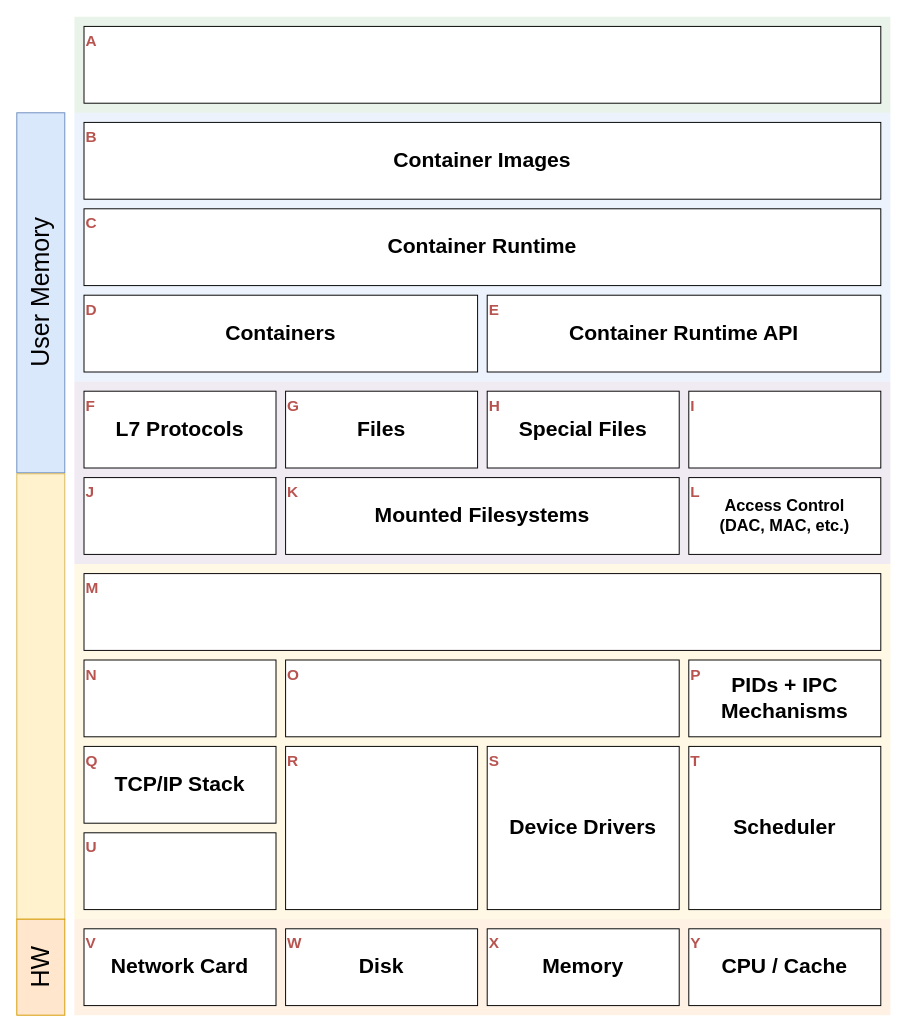
The diagram is 907 pixels wide and 1032 high, and some of its shapes have lost their labels. The shapes that lost their labels are listed below. From the top down, each one's box as (x1, y1, x2, y2) in pixels, then its label:
(83, 25, 881, 103): Container Registries
(688, 390, 881, 468): Processes Threads
(83, 477, 276, 554): Network Interfaces
(83, 573, 881, 650): Namespaces / Cgroups
(16, 473, 65, 919): Kernel Memory
(83, 659, 276, 737): Sockets
(285, 659, 679, 737): VFS Layer
(285, 745, 478, 910): Filesystem Implementations
(83, 832, 276, 910): NIC Driver
